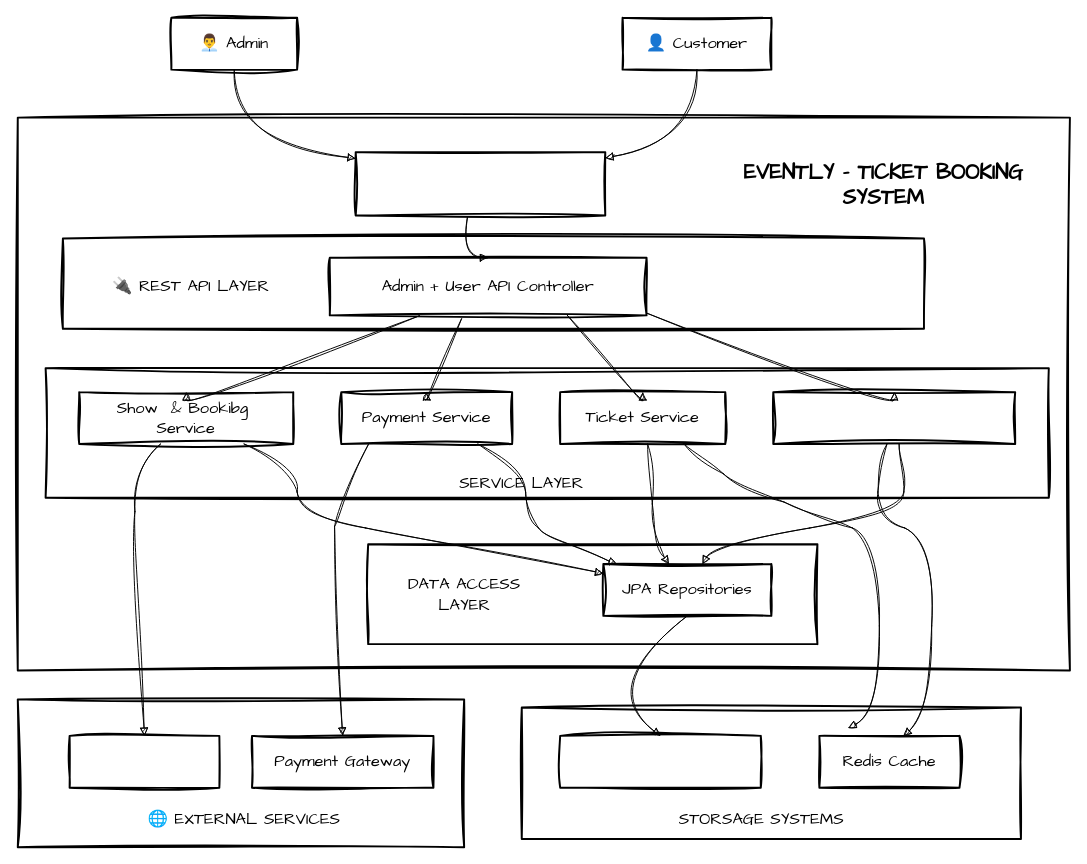
This 1087x864 diagram has some shape labels left out. Here are the shapes that lost their labels. From the top down, the centre of each, then its label:
point (480, 183): Authentication Interceptor
point (894, 417): Event & Venue Service
point (144, 761): Email Service
point (660, 761): PostgreSQL Database
